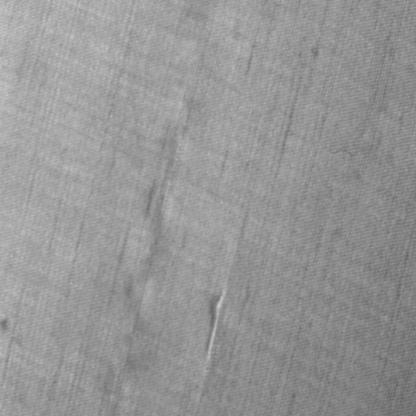thread error: (96, 40, 212, 414), (201, 281, 227, 365)
